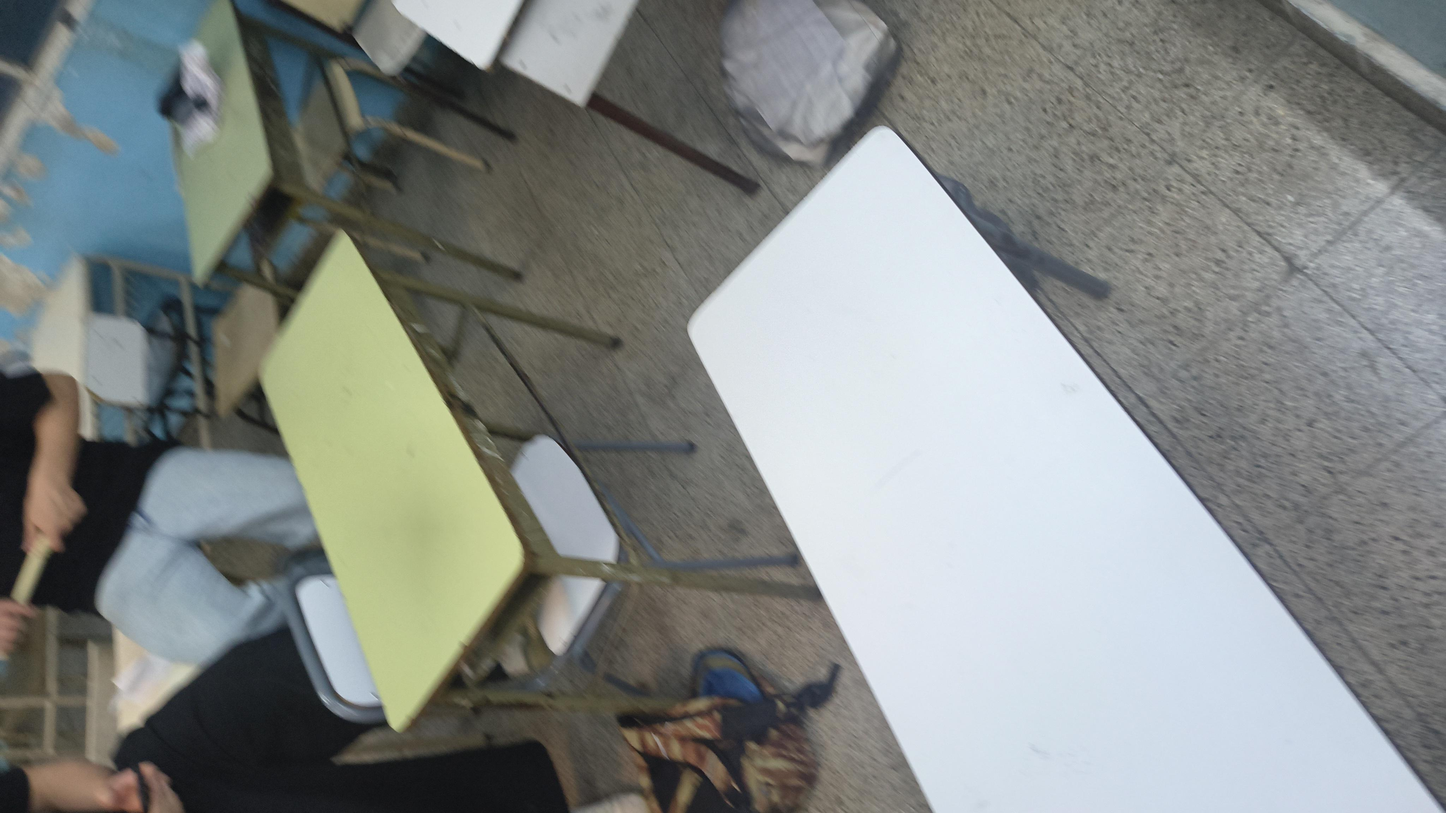Garbage: (1123, 383, 1446, 520)
